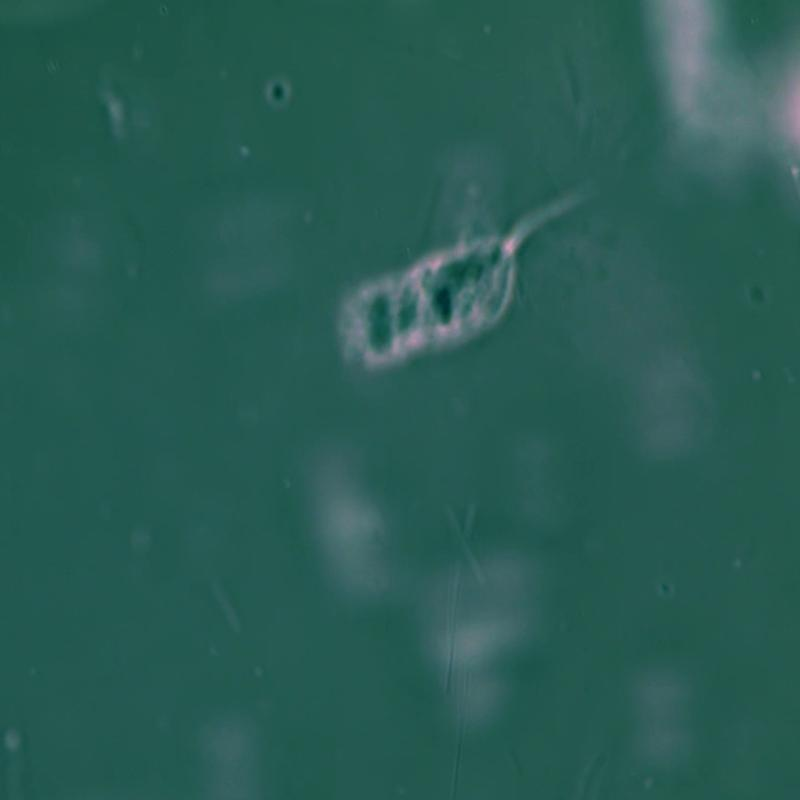depth:60: (299, 185, 669, 382)
